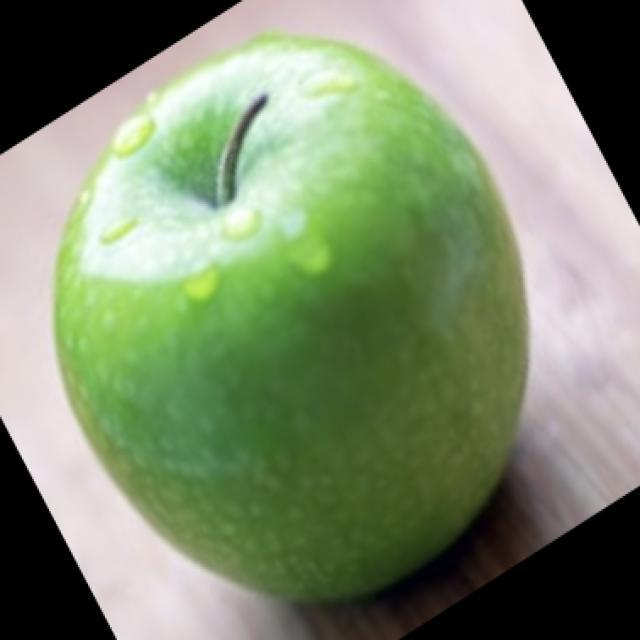Apple: (52, 30, 532, 606)
